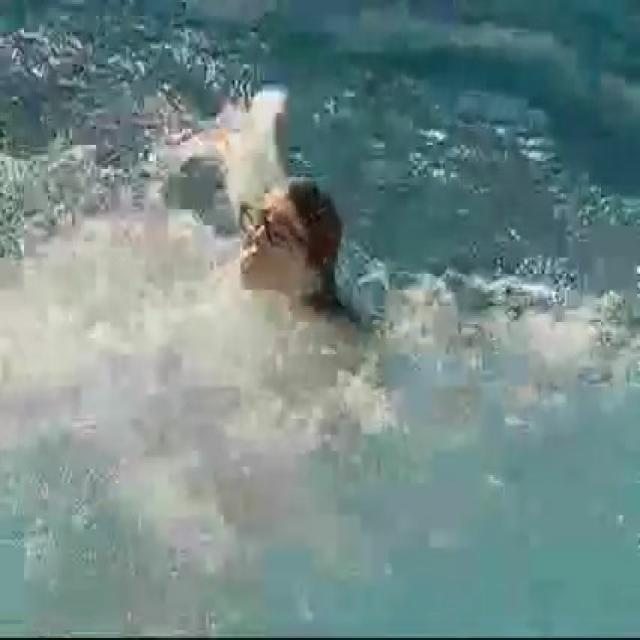Drowning: (186, 163, 368, 336)
